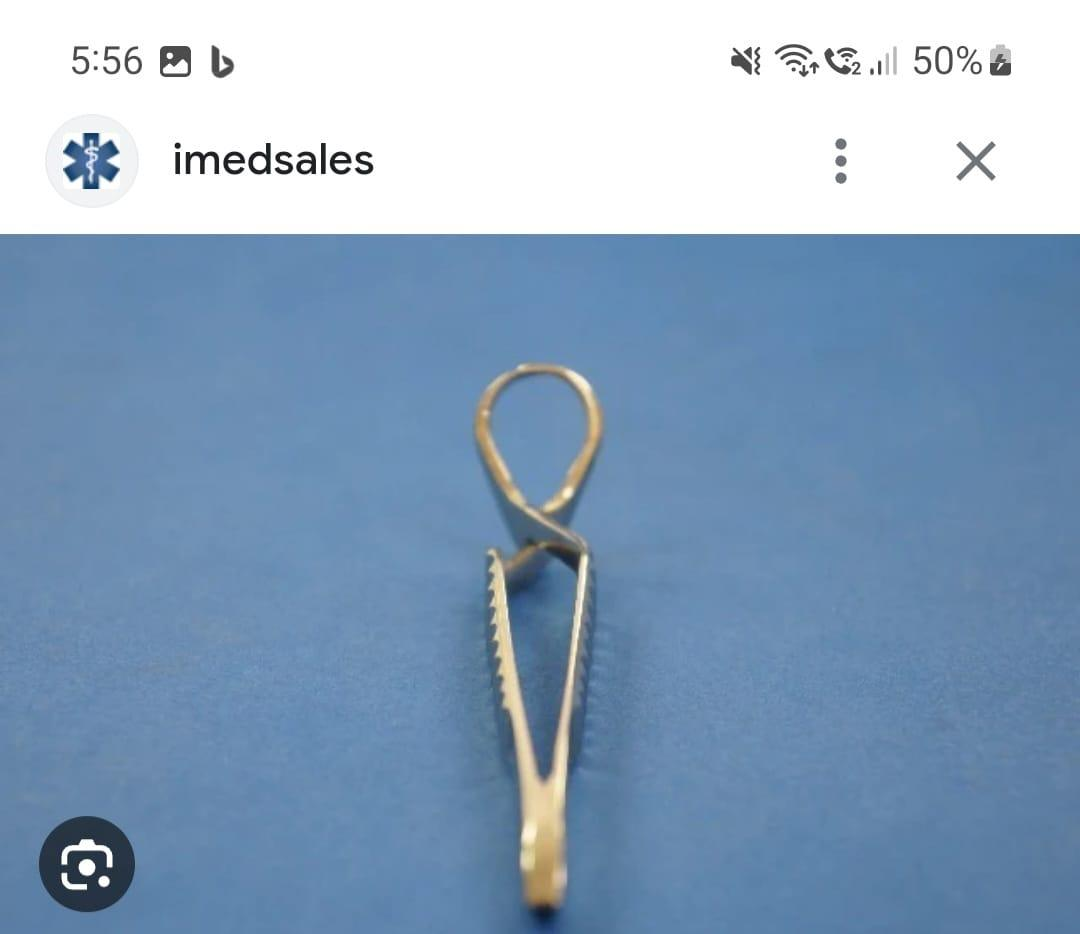Jones Towel Clamp: (441, 343, 639, 914)
